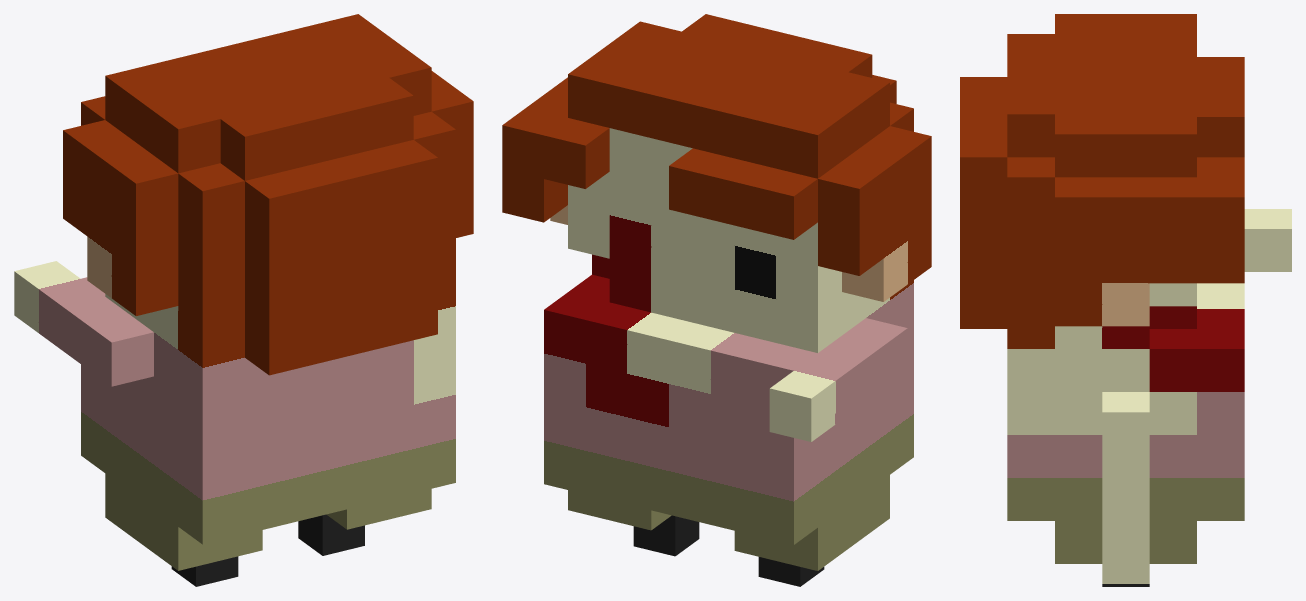
File: chr_zombie1.fbx
The picture shows the model from 3 angles, left to right: view 1: azimuth 30°, elevation 25°; view 2: azimuth 150°, elevation 25°; view 3: azimuth 270°, elevation 25°; orthographic projection. The views are drawn at different scales.
Visible parts, largest first — view 1: chr_zombie1; view 2: chr_zombie1; view 3: chr_zombie1.
Part boxes in pixels (x1,y1,x2,y2): chr_zombie1: (14,14,473,586); chr_zombie1: (502,14,931,586); chr_zombie1: (960,14,1291,586).
Bounding box in the file's own units: 0.8 × 0.7 × 1.1.
Materials: 1 (1 with a texture image).
